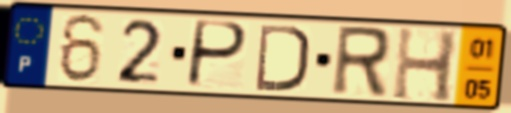2: (117, 17, 165, 88)
6: (57, 12, 108, 86)
D: (253, 21, 312, 94)
H: (389, 24, 462, 106)
P: (183, 18, 251, 91)
R: (328, 23, 394, 101)
